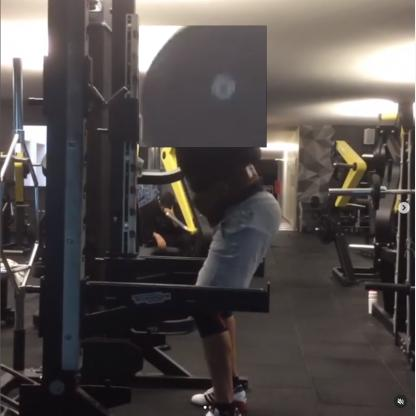barbell: (140, 27, 268, 149)
